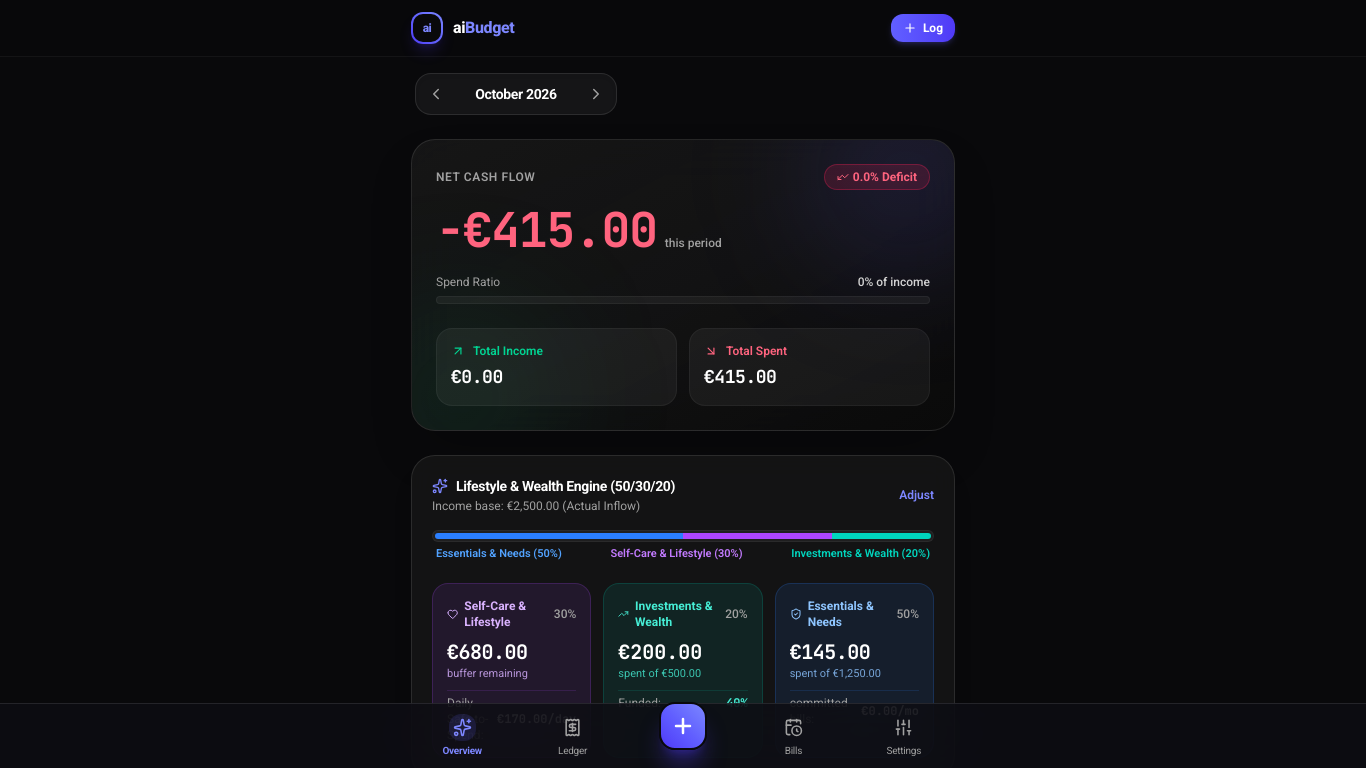
Overview Lifestyle & Wealth Bucket Navigation to Ledger › navigates from Overview Self-Care, Investments, and Essentials cards to Ledger with month and bucket filters preselected
The width and height of the screenshot is (1366, 768).
expect the text "Net Cash Flow" is shown: met, box [436,169,535,185]
Click the button "Self-Care & Lifestyle (30%)".
click(676, 554)  # box [610,546,742,562]
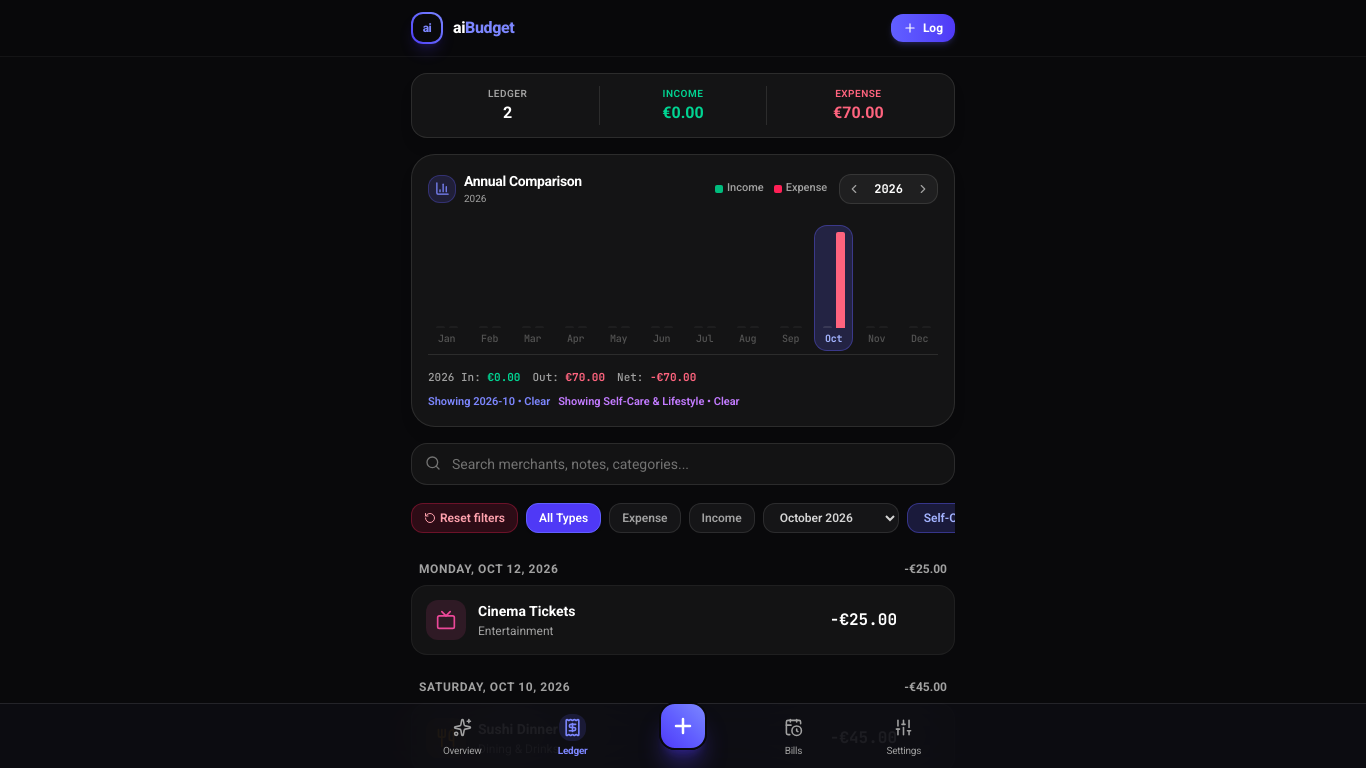
expect the element named "Annual Cash Flow Chart" is shown: met, box [411,154,955,427]
expect the dropdown named "filter by month" shows "October 2026": met, box [763,503,899,533]
expect the text "Cinema Tickets" is shown: met, box [478,601,576,621]
SWITCH BACK TO OVERVIEW AND CLICK INVESTMENTS
Click the button "Overview".
click(462, 736)  # box [407,710,517,762]
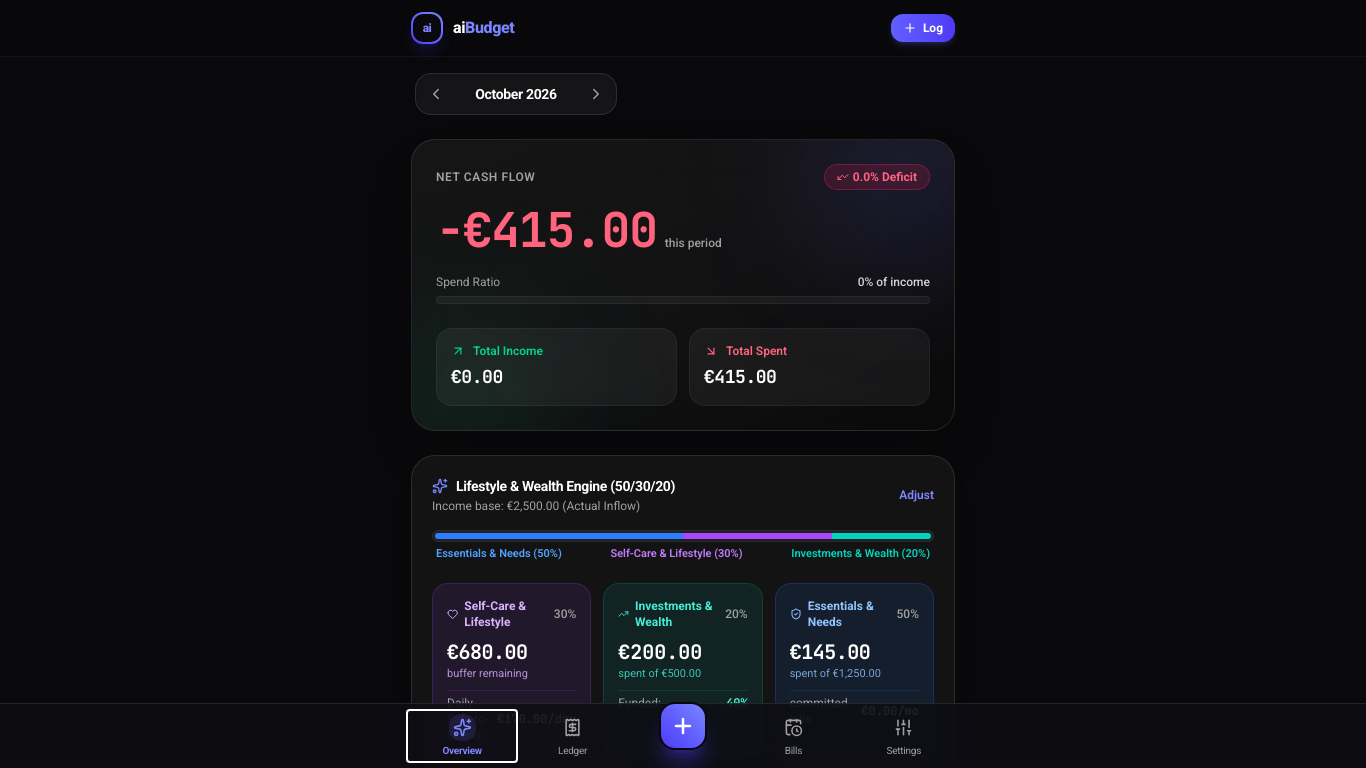
expect the text "Net Cash Flow" is shown: met, box [436,169,535,185]
expect the button "Investments & Wealth (20%)" is shown: met
Click the button "Investments & Wealth (20%)".
click(861, 554)  # box [791,546,930,562]
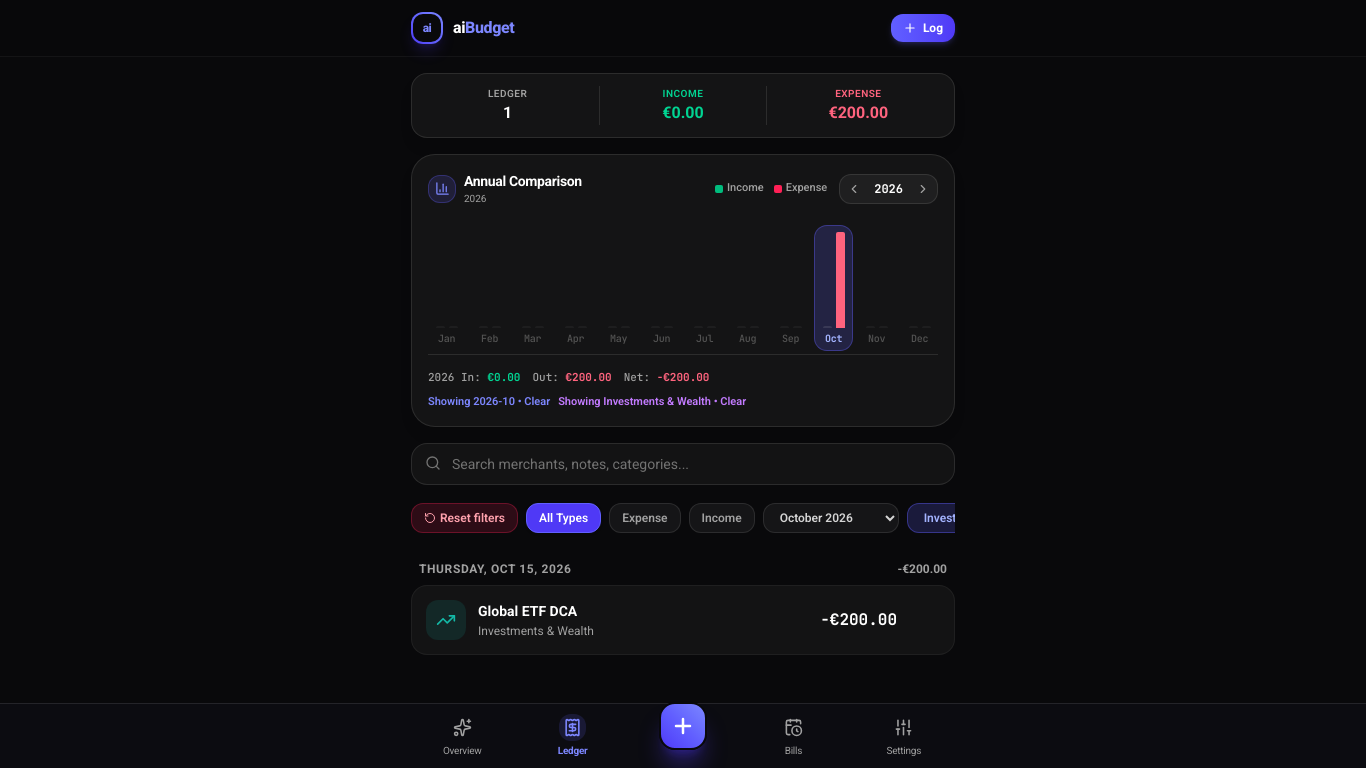
expect the element named "Annual Cash Flow Chart" is shown: met, box [411,154,955,427]
expect the dropdown named "filter by month" shows "October 2026": met, box [763,503,899,533]
expect the text "Global ETF DCA" is shown: met, box [478,601,577,621]
SWITCH BACK TO OVERVIEW AND CLICK ESSENTIALS
Click the button "Overview".
click(462, 736)  # box [407,710,517,762]
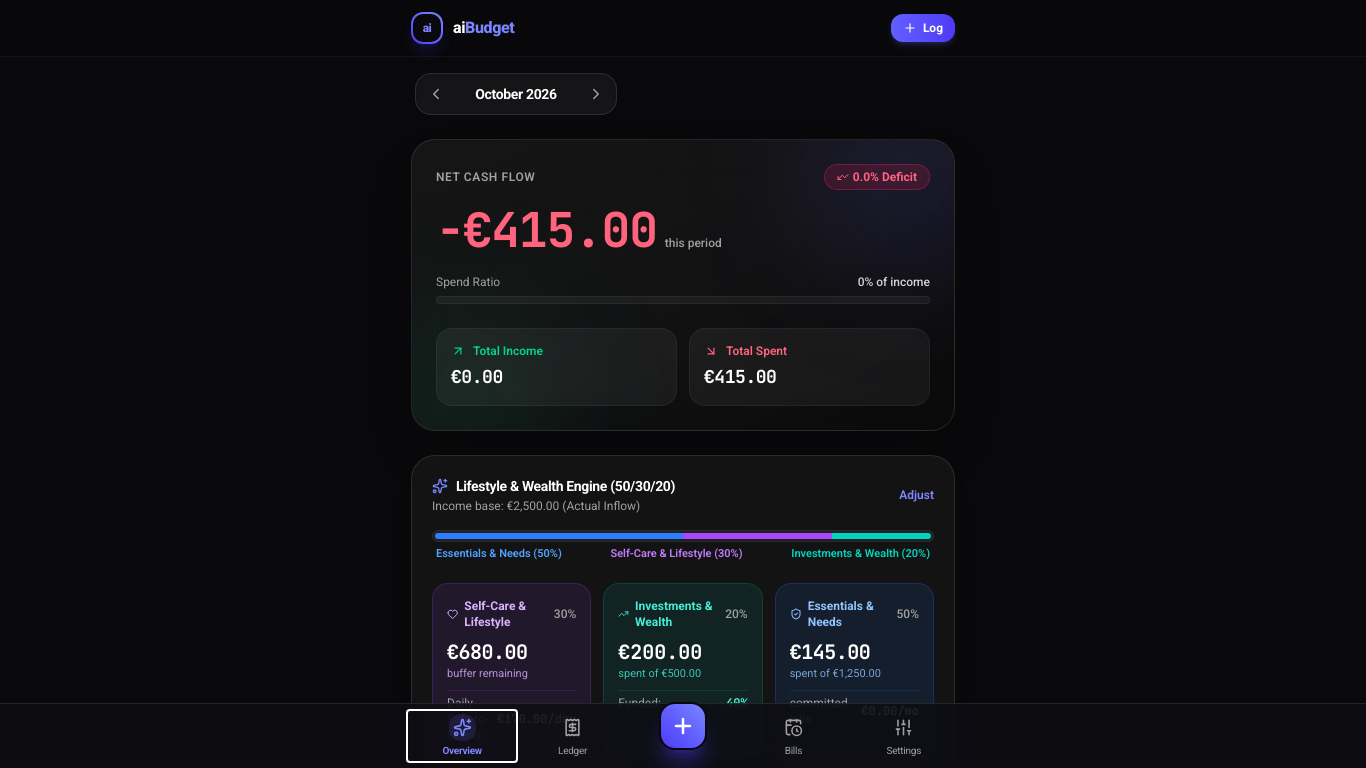
expect the text "Net Cash Flow" is shown: met, box [436,169,535,185]
expect the button "Essentials & Needs (50%)" is shown: met
Click the button "Essentials & Needs (50%)".
click(499, 554)  # box [436,546,562,562]
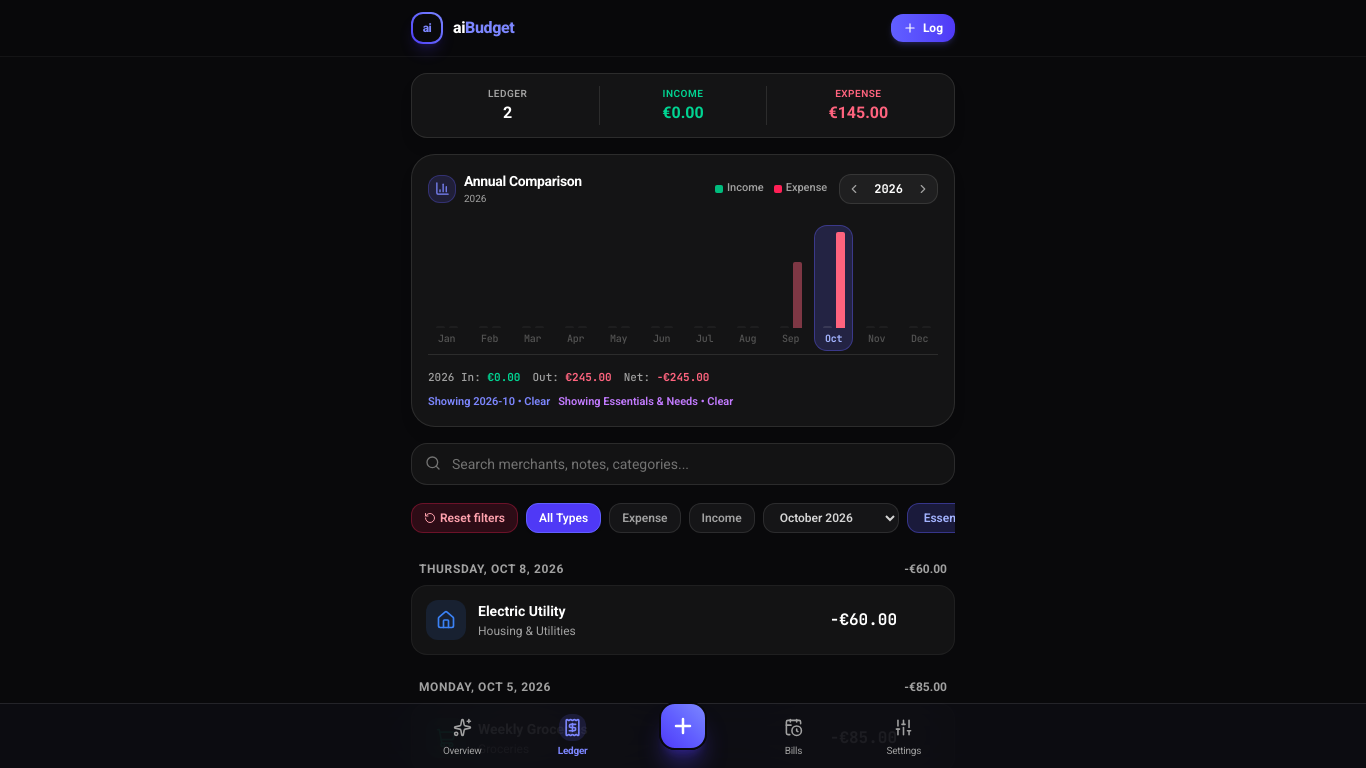
expect the element named "Annual Cash Flow Chart" is shown: met, box [411,154,955,427]
expect the dropdown named "filter by month" shows "October 2026": met, box [763,503,899,533]
expect the text "Weekly Groceries" is shown: met, box [478,719,588,739]
CLEAR BUCKET FILTER IN LEDGER
Click the button "Showing Essentials & Needs • Clear".
click(646, 402)  # box [558,394,733,410]
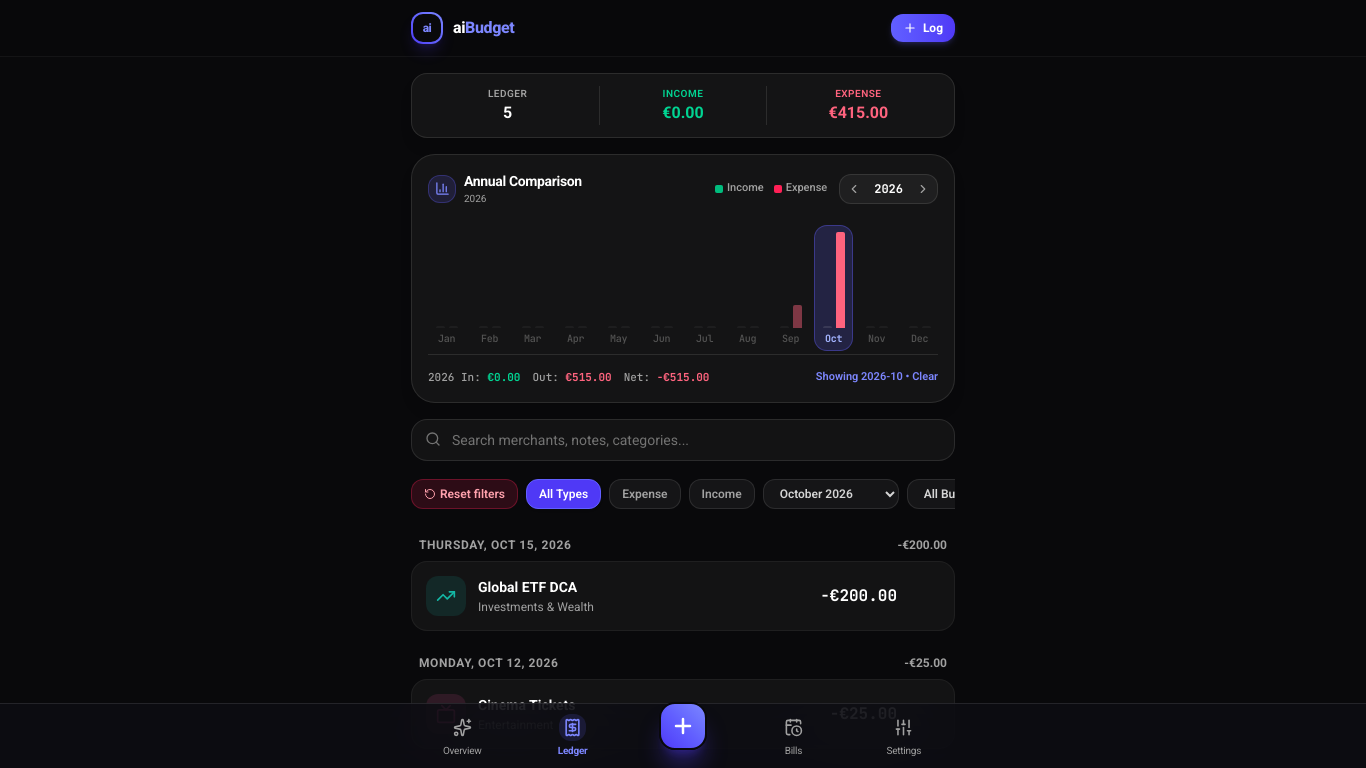
expect the text "Cinema Tickets" is shown: met, box [478,694,576,714]
expect the text "Global ETF DCA" is shown: met, box [478,576,577,596]
